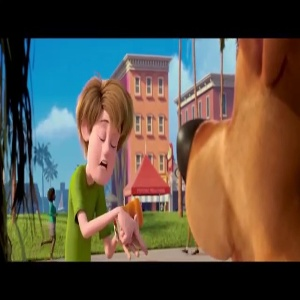Shagy: (77, 74, 139, 184)
